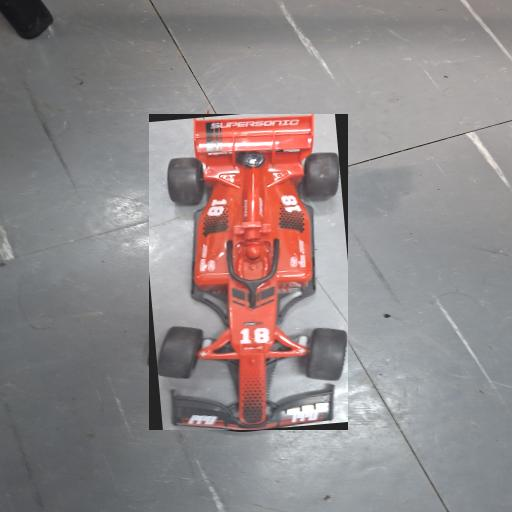carro: (150, 115, 347, 430)
